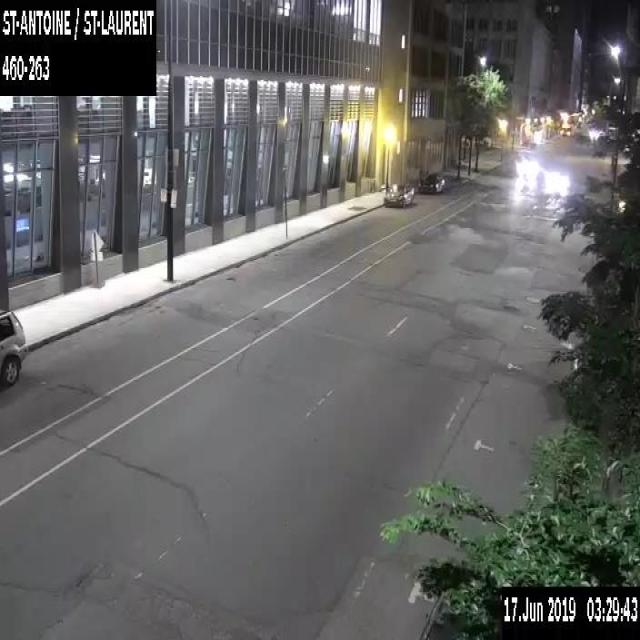construction: (86, 227, 105, 286)
vehicle: (0, 309, 27, 383), (384, 180, 414, 207), (416, 171, 446, 196), (558, 121, 575, 138)
